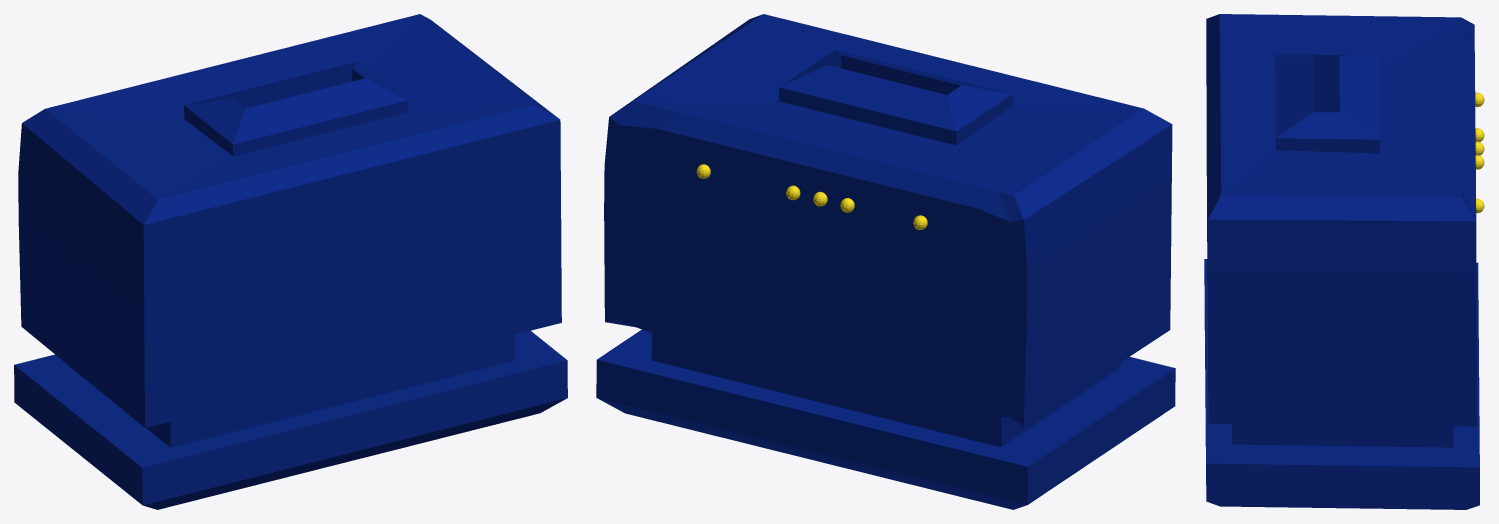
Rendered from sign table.FBX.
3 renders of one model, left to right at view 1: azimuth 30°, elevation 25°; view 2: azimuth 150°, elevation 25°; view 3: azimuth 270°, elevation 25°, orthographic.
Visible parts, largest first — view 1: group_628921701; view 2: group_628921701; view 3: group_628921701.
Boxes of the visible parts, x1,y1,x2,y2 form: group_628921701: (14,14,567,509); group_628921701: (596,14,1175,509); group_628921701: (1204,14,1479,509).
Bounding box in the file's own units: 113 × 83.16 × 63.19.
